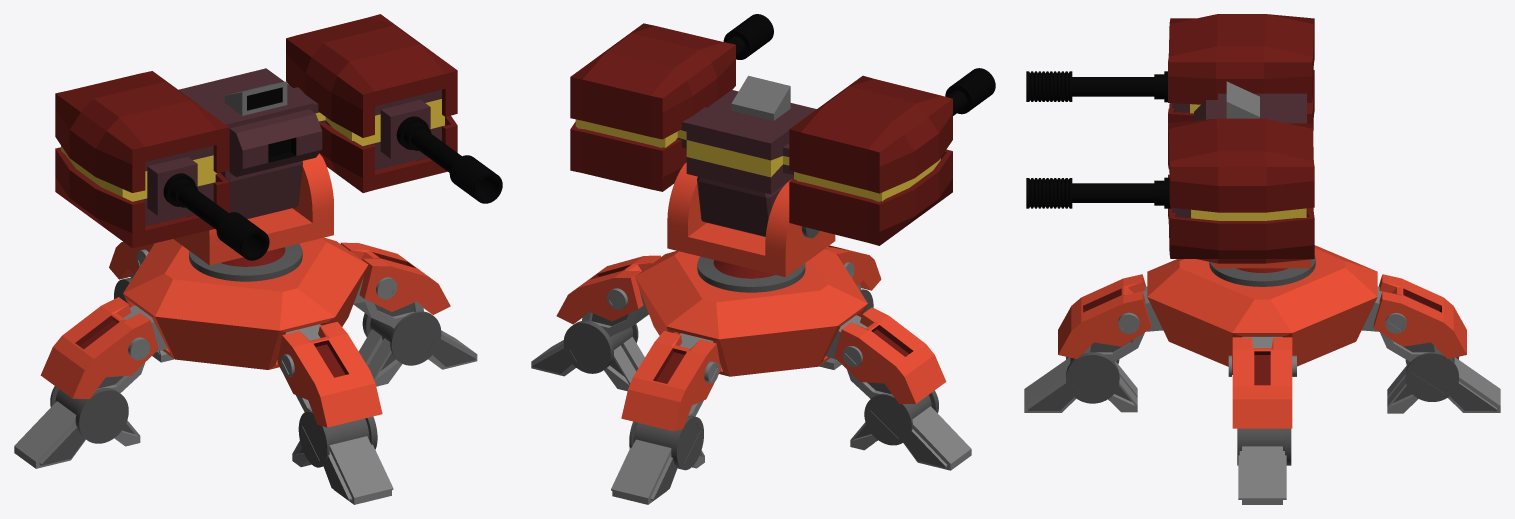
The model's file is Turret2 1.fbx.
3 renders of one model, left to right at view 1: azimuth 30°, elevation 25°; view 2: azimuth 150°, elevation 25°; view 3: azimuth 270°, elevation 25°, orthographic. The views are drawn at different scales.
Visible parts, largest first — view 1: Sphere, Cube, Cube.009, Cube.010, Cube.007, Cube.001, Cylinder.002, Cube.008; view 2: Sphere, Cube, Cube.009, Cube.008, Cube.007, Cube.001, Cylinder.002, Cube.010; view 3: Sphere, Cube, Cube.010, Cube.008, Cube.007, Cylinder.002, Cube.001.
Boxes of the visible parts, left/top/right/bottom form: Sphere: left=55, top=14, right=502, bottom=260; Cube: left=123, top=237, right=368, bottom=369; Cube.009: left=14, top=297, right=167, bottom=468; Cube.010: left=277, top=321, right=393, bottom=504; Cube.007: left=340, top=242, right=477, bottom=386; Cube.001: left=173, top=153, right=333, bottom=265; Cylinder.002: left=189, top=244, right=302, bottom=281; Cube.008: left=109, top=241, right=174, bottom=362; Sphere: left=570, top=14, right=995, bottom=245; Cube: left=635, top=249, right=867, bottom=376; Cube.009: left=825, top=307, right=971, bottom=470; Cube.008: left=611, top=330, right=721, bottom=504; Cube.007: left=531, top=255, right=661, bottom=391; Cube.001: left=667, top=162, right=835, bottom=277; Cylinder.002: left=697, top=256, right=805, bottom=292; Cube.010: left=819, top=245, right=881, bottom=369; Sphere: left=1026, top=14, right=1314, bottom=263; Cube: left=1147, top=245, right=1377, bottom=366; Cube.010: left=1024, top=274, right=1162, bottom=412; Cube.008: left=1362, top=274, right=1500, bottom=413; Cube.007: left=1228, top=336, right=1296, bottom=504; Cylinder.002: left=1209, top=255, right=1315, bottom=286; Cube.001: left=1213, top=259, right=1311, bottom=268.
Size of the model in its own units: 464 by 346 by 464.
